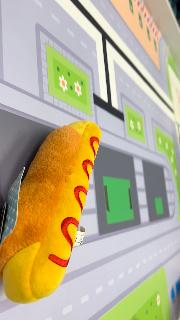hotdog: (1, 120, 102, 304)
